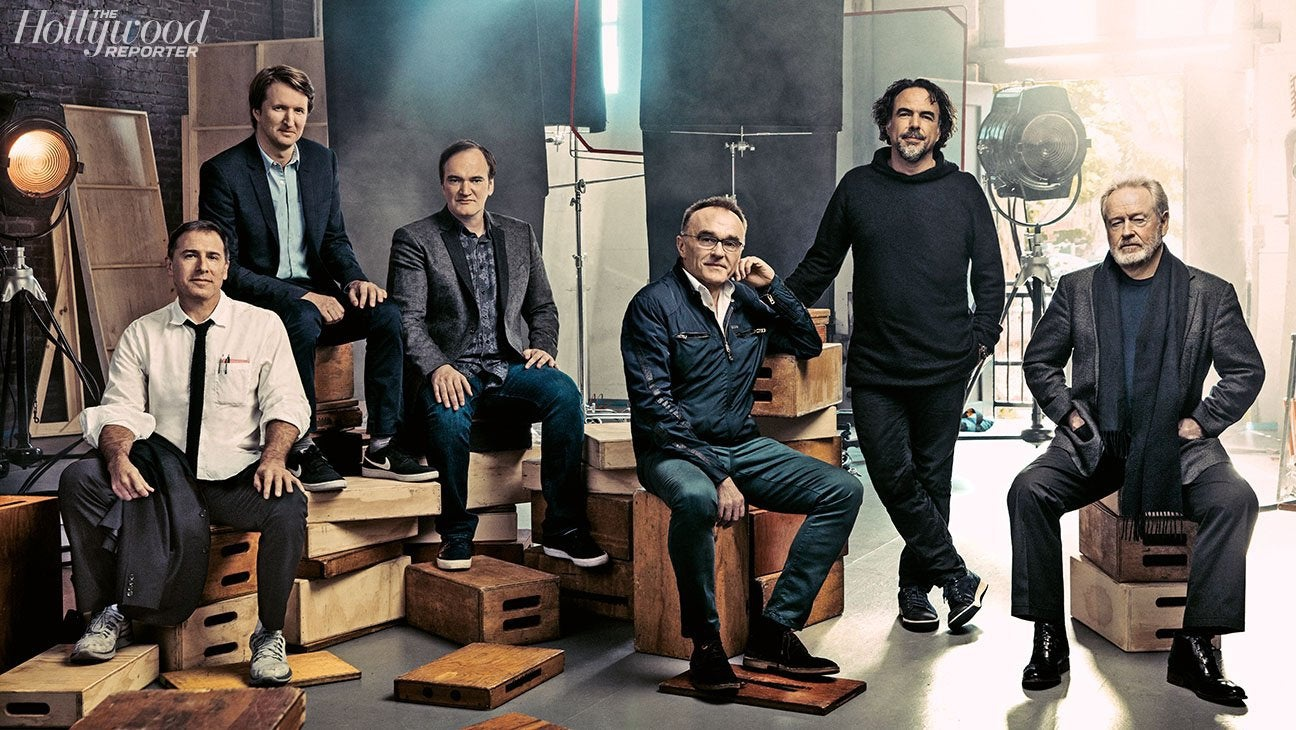bad: (688, 218, 750, 281), (170, 239, 232, 301), (1096, 198, 1158, 260), (890, 101, 942, 153), (440, 164, 492, 216), (262, 90, 314, 141)
